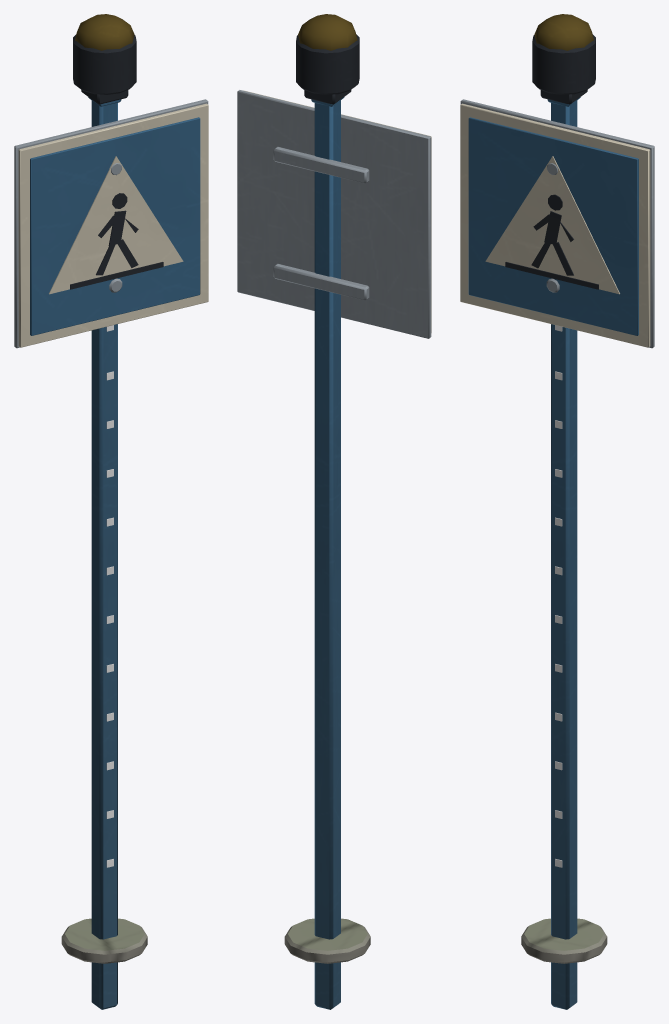
The model's file is crosswalk_sign.glb.
The picture shows the model from 3 angles, left to right: view 1: azimuth 30°, elevation 25°; view 2: azimuth 150°, elevation 25°; view 3: azimuth 330°, elevation 25°; orthographic projection.
Visible parts, largest first — view 1: crosswalk_sign; view 2: crosswalk_sign; view 3: crosswalk_sign.
Part boxes in pixels (bbox=[...]): crosswalk_sign: bbox=[14, 14, 208, 1009]; crosswalk_sign: bbox=[237, 14, 431, 1009]; crosswalk_sign: bbox=[460, 14, 654, 1009].
Size of the model in its own units: 0.62 by 3.04 by 0.24.
12 materials, 12 textured.
